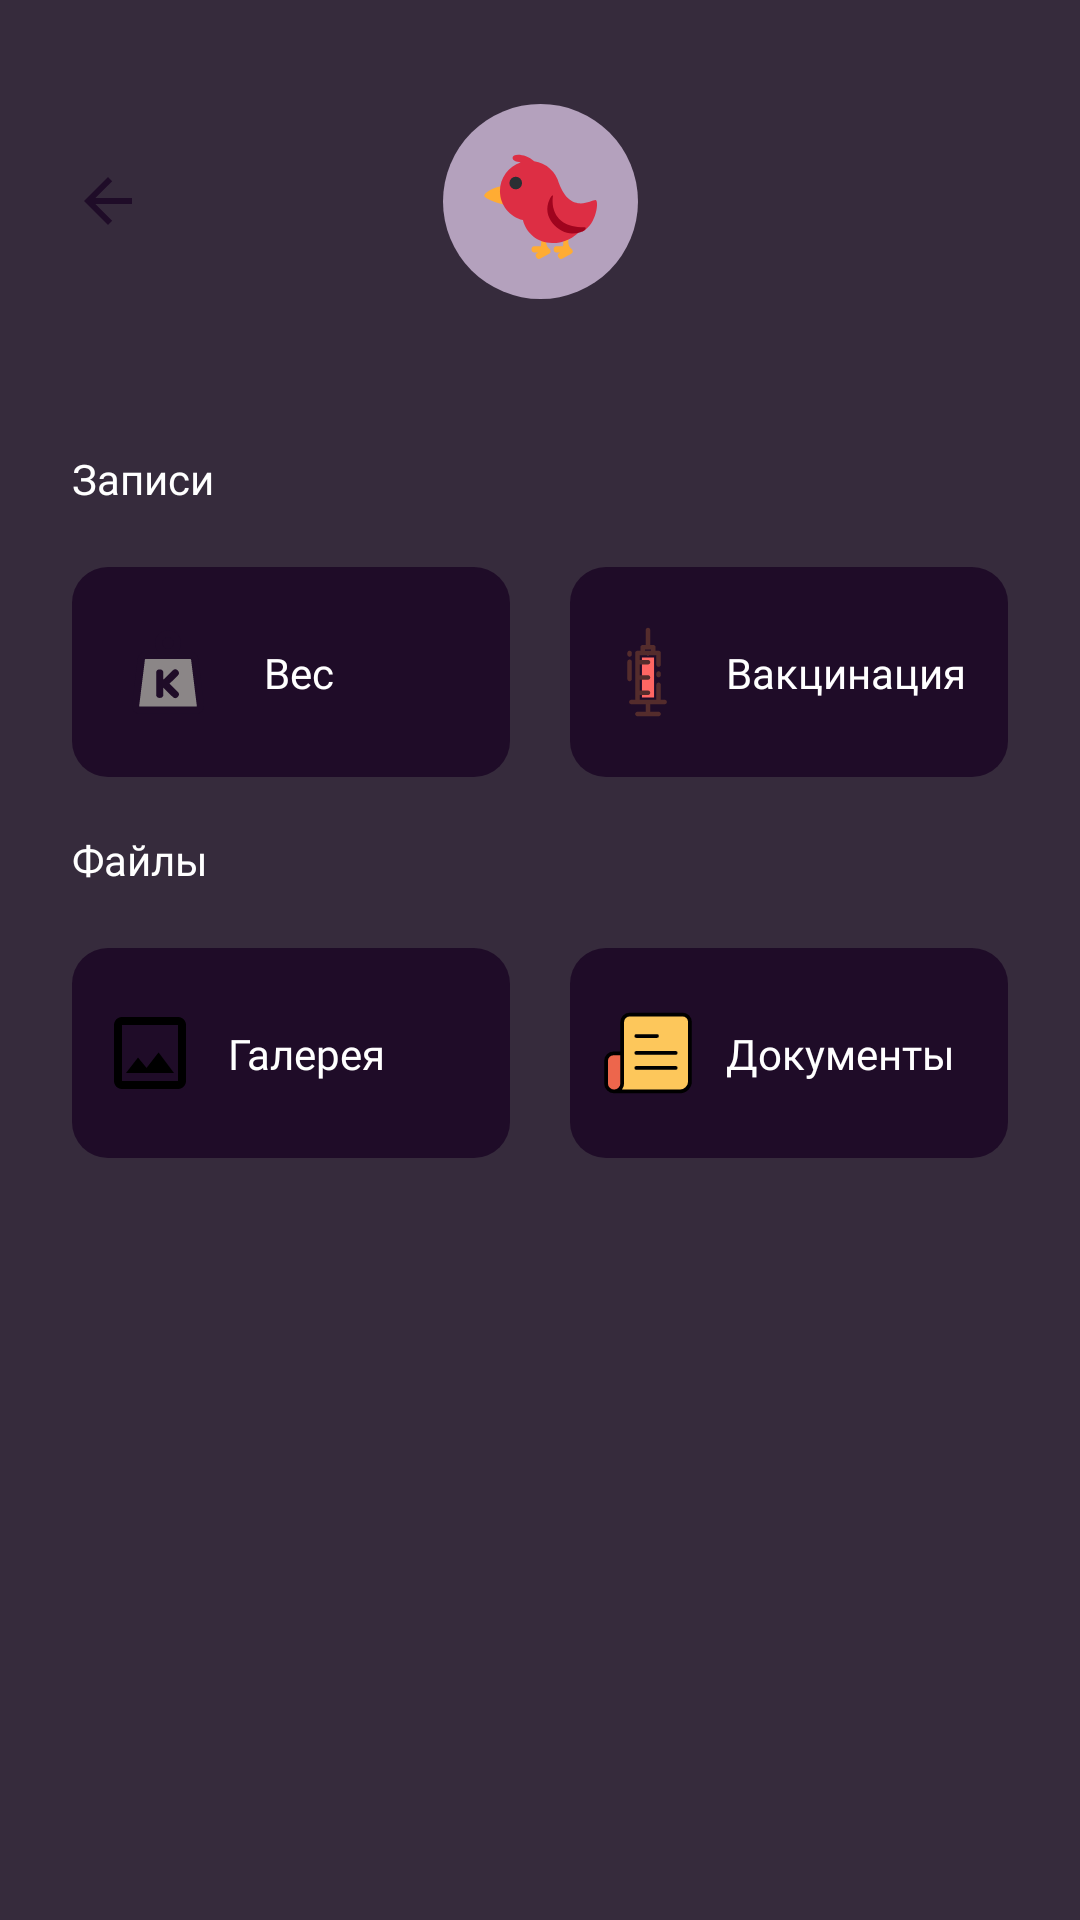

Named icons in this screenshot (1080*1920) and their bounding boxes, [x1=x1, y1=y1, x2=x2, y2=y2]:
arrow back: [x1=85, y1=178, x2=132, y2=224]
bird: [x1=484, y1=154, x2=597, y2=259]
documents: [x1=604, y1=1013, x2=692, y2=1093]
photo: [x1=114, y1=1017, x2=186, y2=1089]
syringe: [x1=627, y1=628, x2=667, y2=716]
weight: [x1=139, y1=659, x2=197, y2=707]
